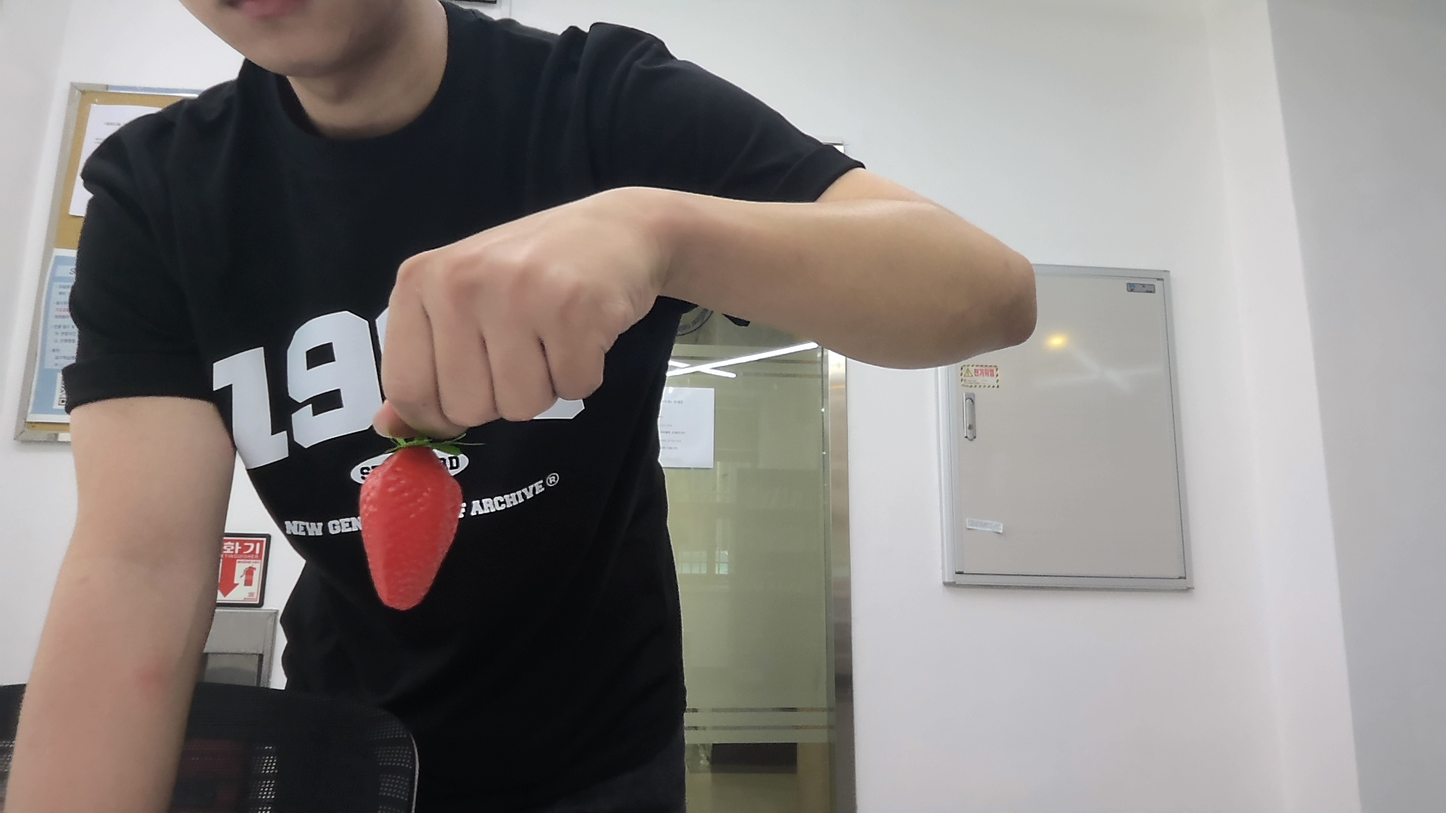strawberry: (345, 436, 480, 613)
